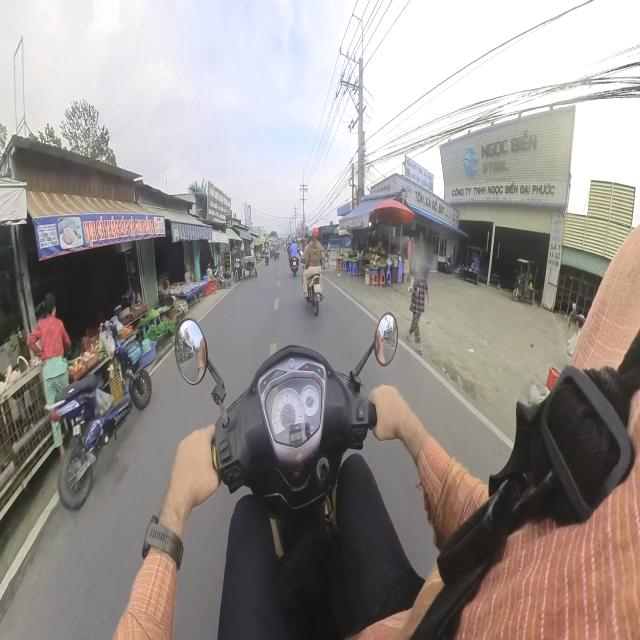motorcycle: (175, 313, 397, 637), (47, 322, 151, 509), (307, 275, 323, 315), (234, 258, 243, 282), (291, 256, 298, 276)
